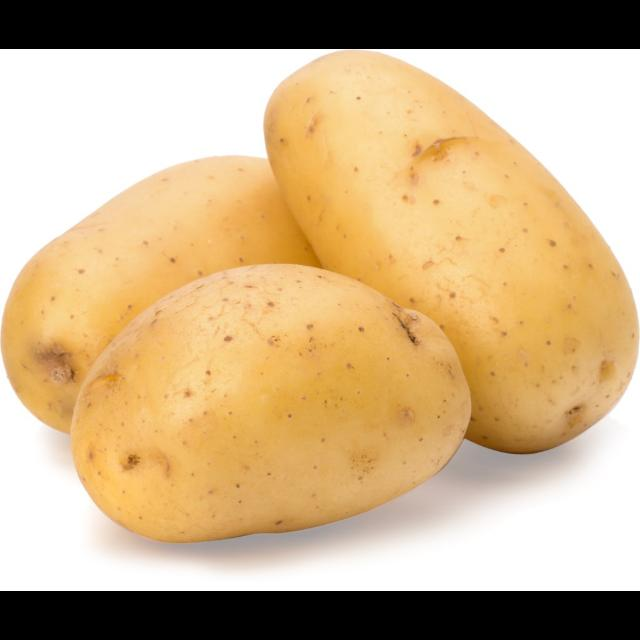Potato: (262, 51, 640, 456), (71, 262, 473, 544), (2, 152, 374, 442)
